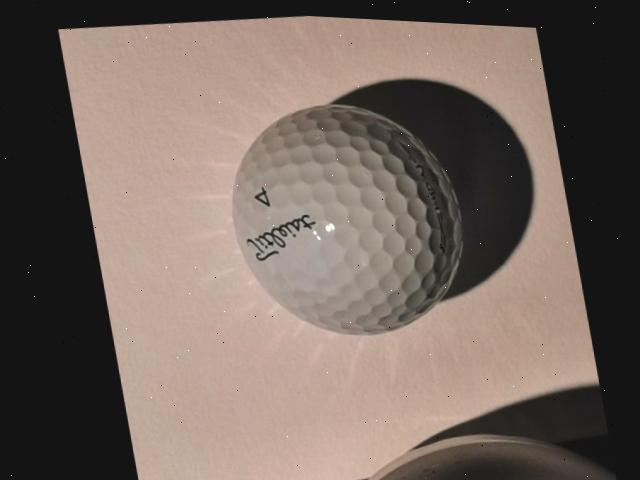Ball: (210, 81, 477, 348)
Titleist: (238, 206, 318, 260)
